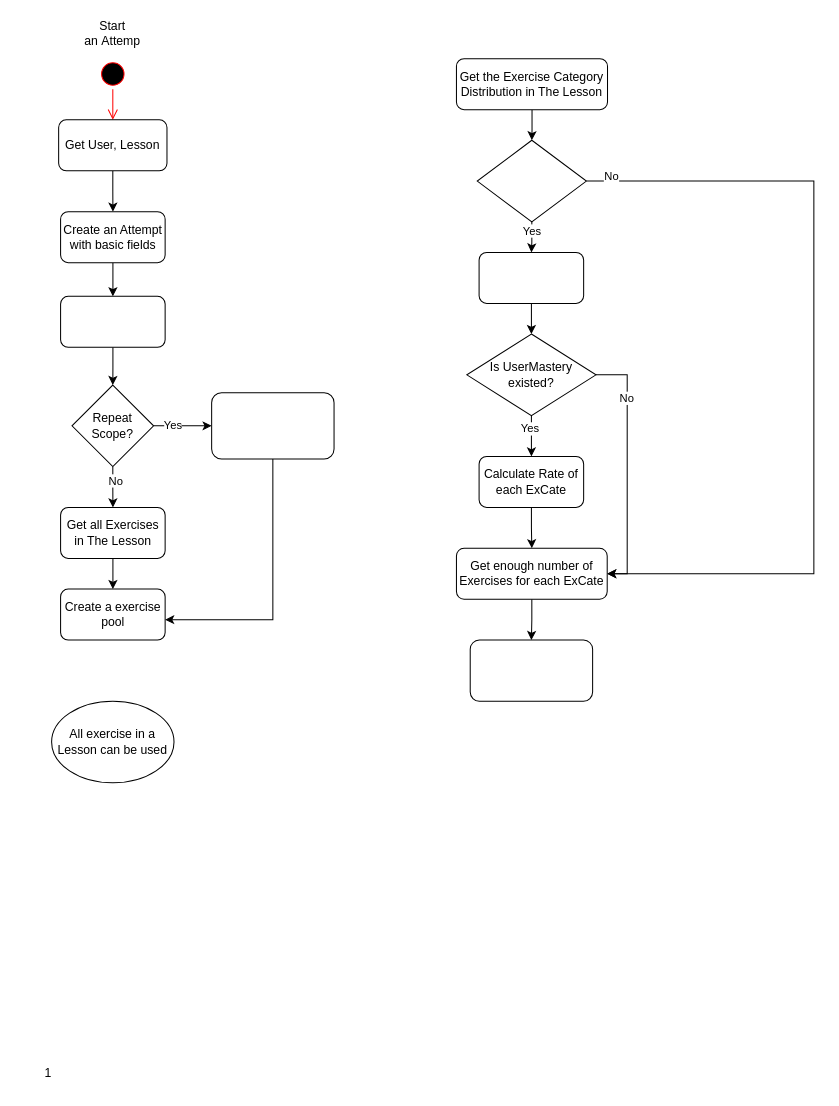
This 839x1106 diagram has some shape labels left out. The centre of each missing label's shape, as x and y in pixels:
"Calculate total Exercises" belongs at point (531, 670).
"Get exercises that didn't finish by the user in The Lesson" belongs at point (272, 425).
"Get Lesson Config" belongs at point (112, 321).
"Get UserMastery" belongs at point (531, 277).
"Is ExCateDis existed?" belongs at point (531, 180).
